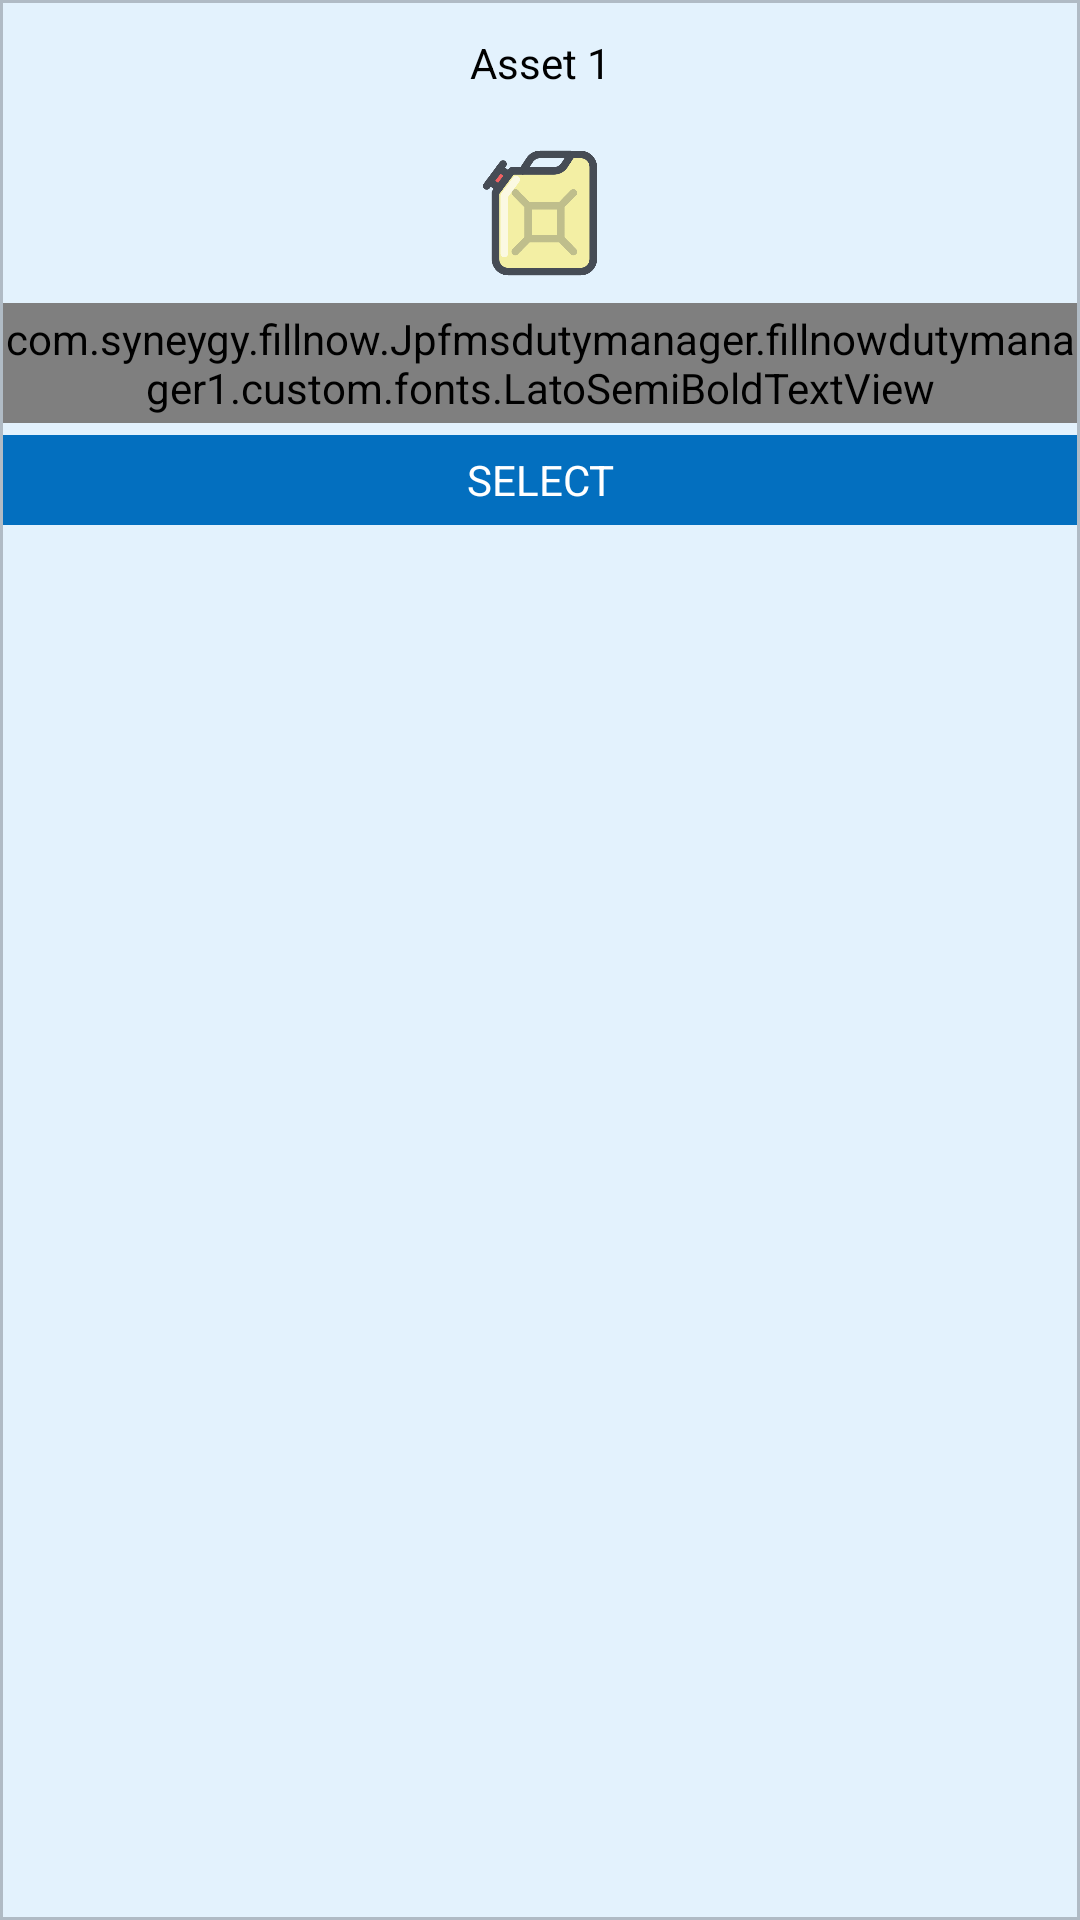

Named icons in this screenshot (1080x1920) and their bounding boxes, (x1, y1, x2, y2):
petrol: (483, 150, 597, 276)
